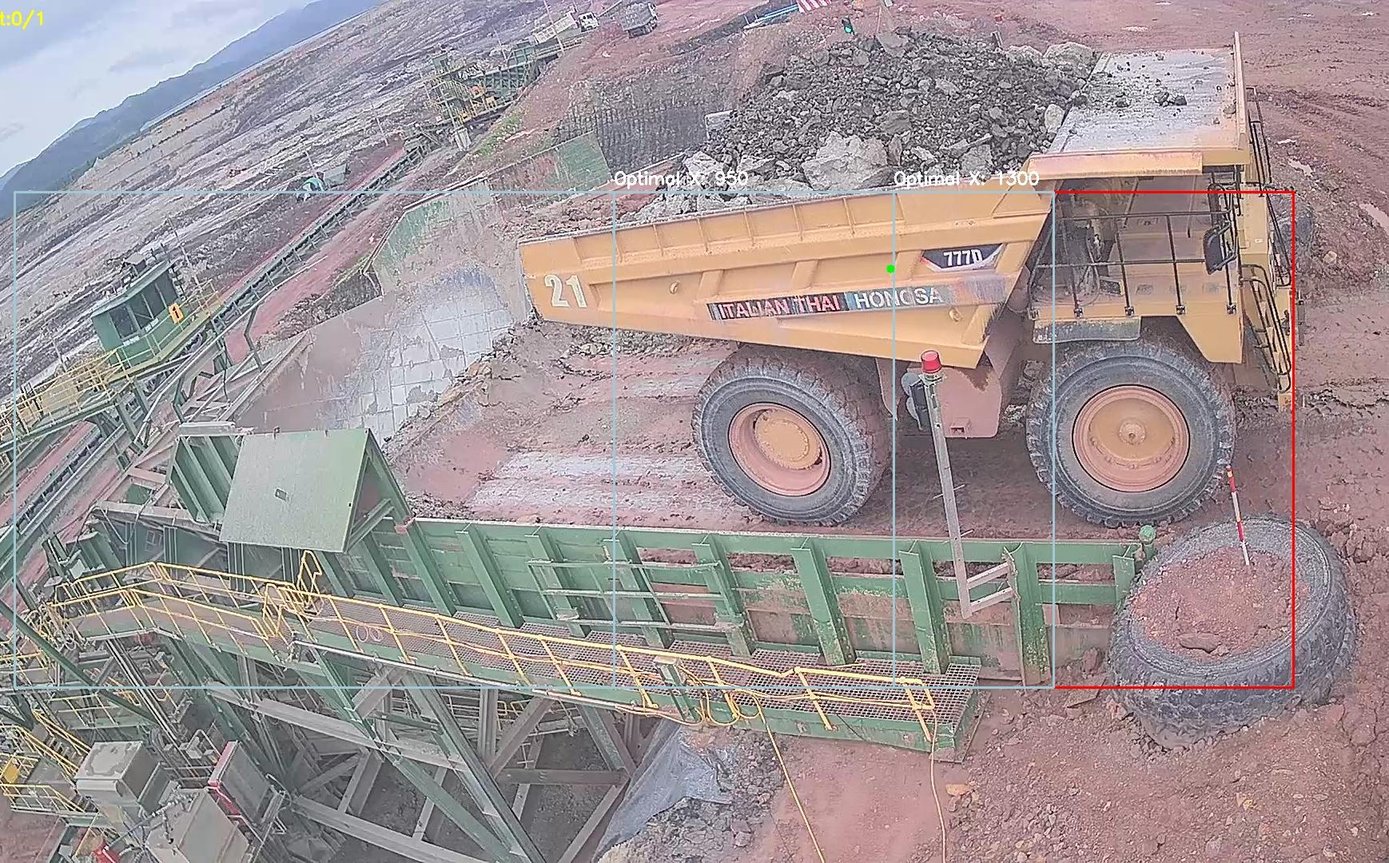company: (687, 276, 956, 331)
full_load: (702, 23, 1046, 207)
mining_truck: (503, 10, 1318, 523)
tail_number: (534, 264, 607, 317)
truck_size: (919, 231, 1000, 274)
